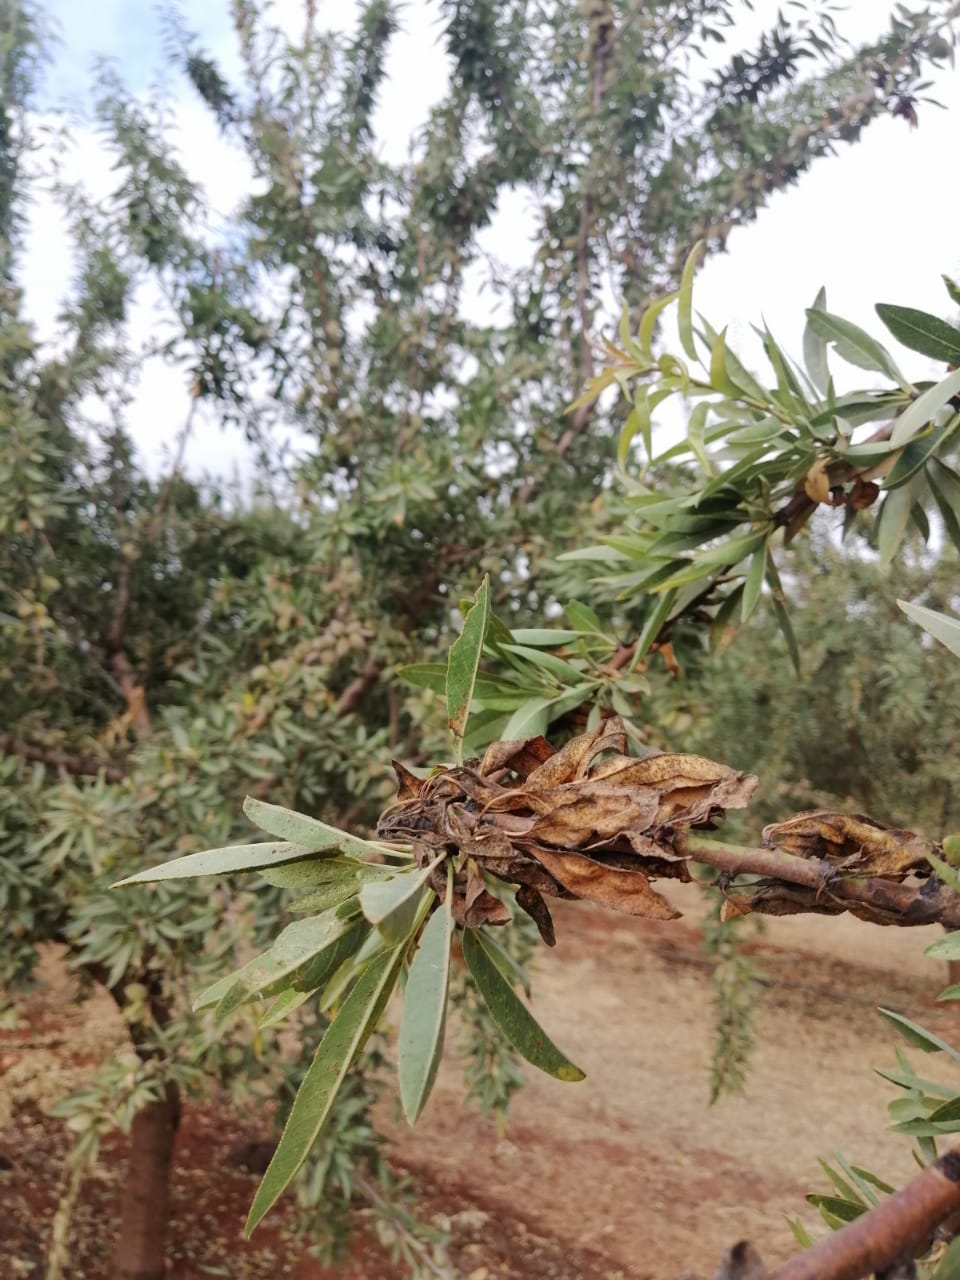scolytes: (374, 730, 960, 931)
